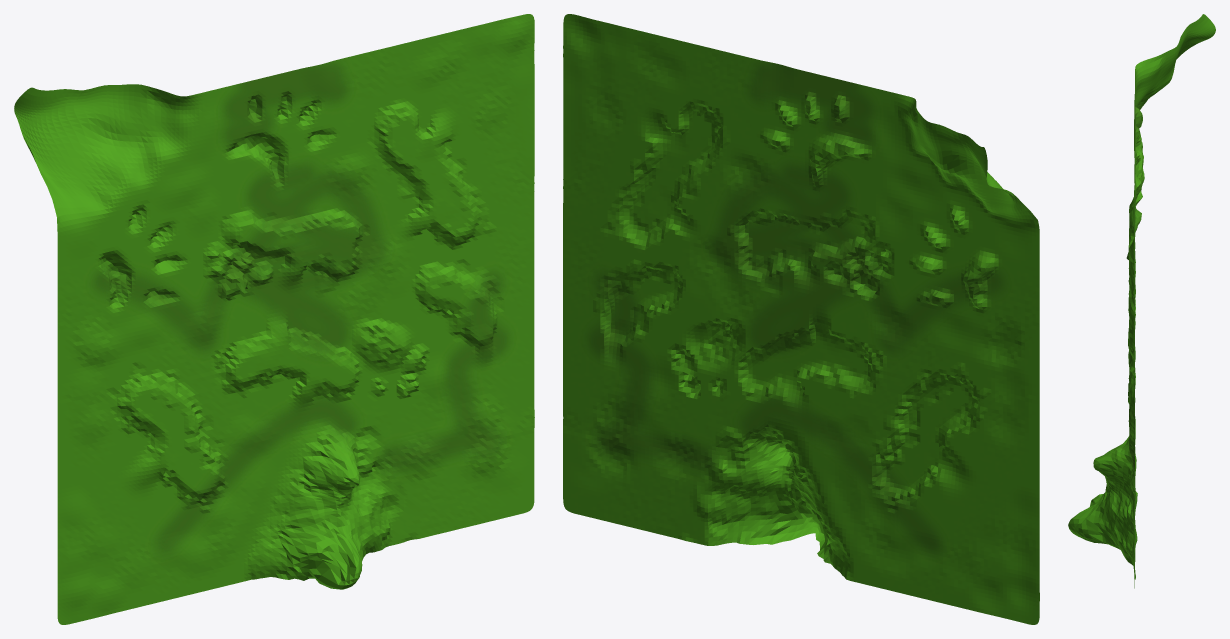
The model's file is AntRTSMap_as_static_mesh.OBJ.
3 views of the same model, side by side, from view 1: azimuth 30°, elevation 25°; view 2: azimuth 150°, elevation 25°; view 3: azimuth 270°, elevation 25° (orthographic). The views are drawn at different scales.
Parts seen in each view (by area): view 1: Group39935; view 2: Group39935; view 3: Group39935.
Boxes of the visible parts, x1,y1,x2,y2 form: Group39935: [14, 14, 534, 624]; Group39935: [563, 14, 1039, 624]; Group39935: [1068, 14, 1215, 588].
Size of the model in its own units: 2 by 2.04 by 0.6404.
